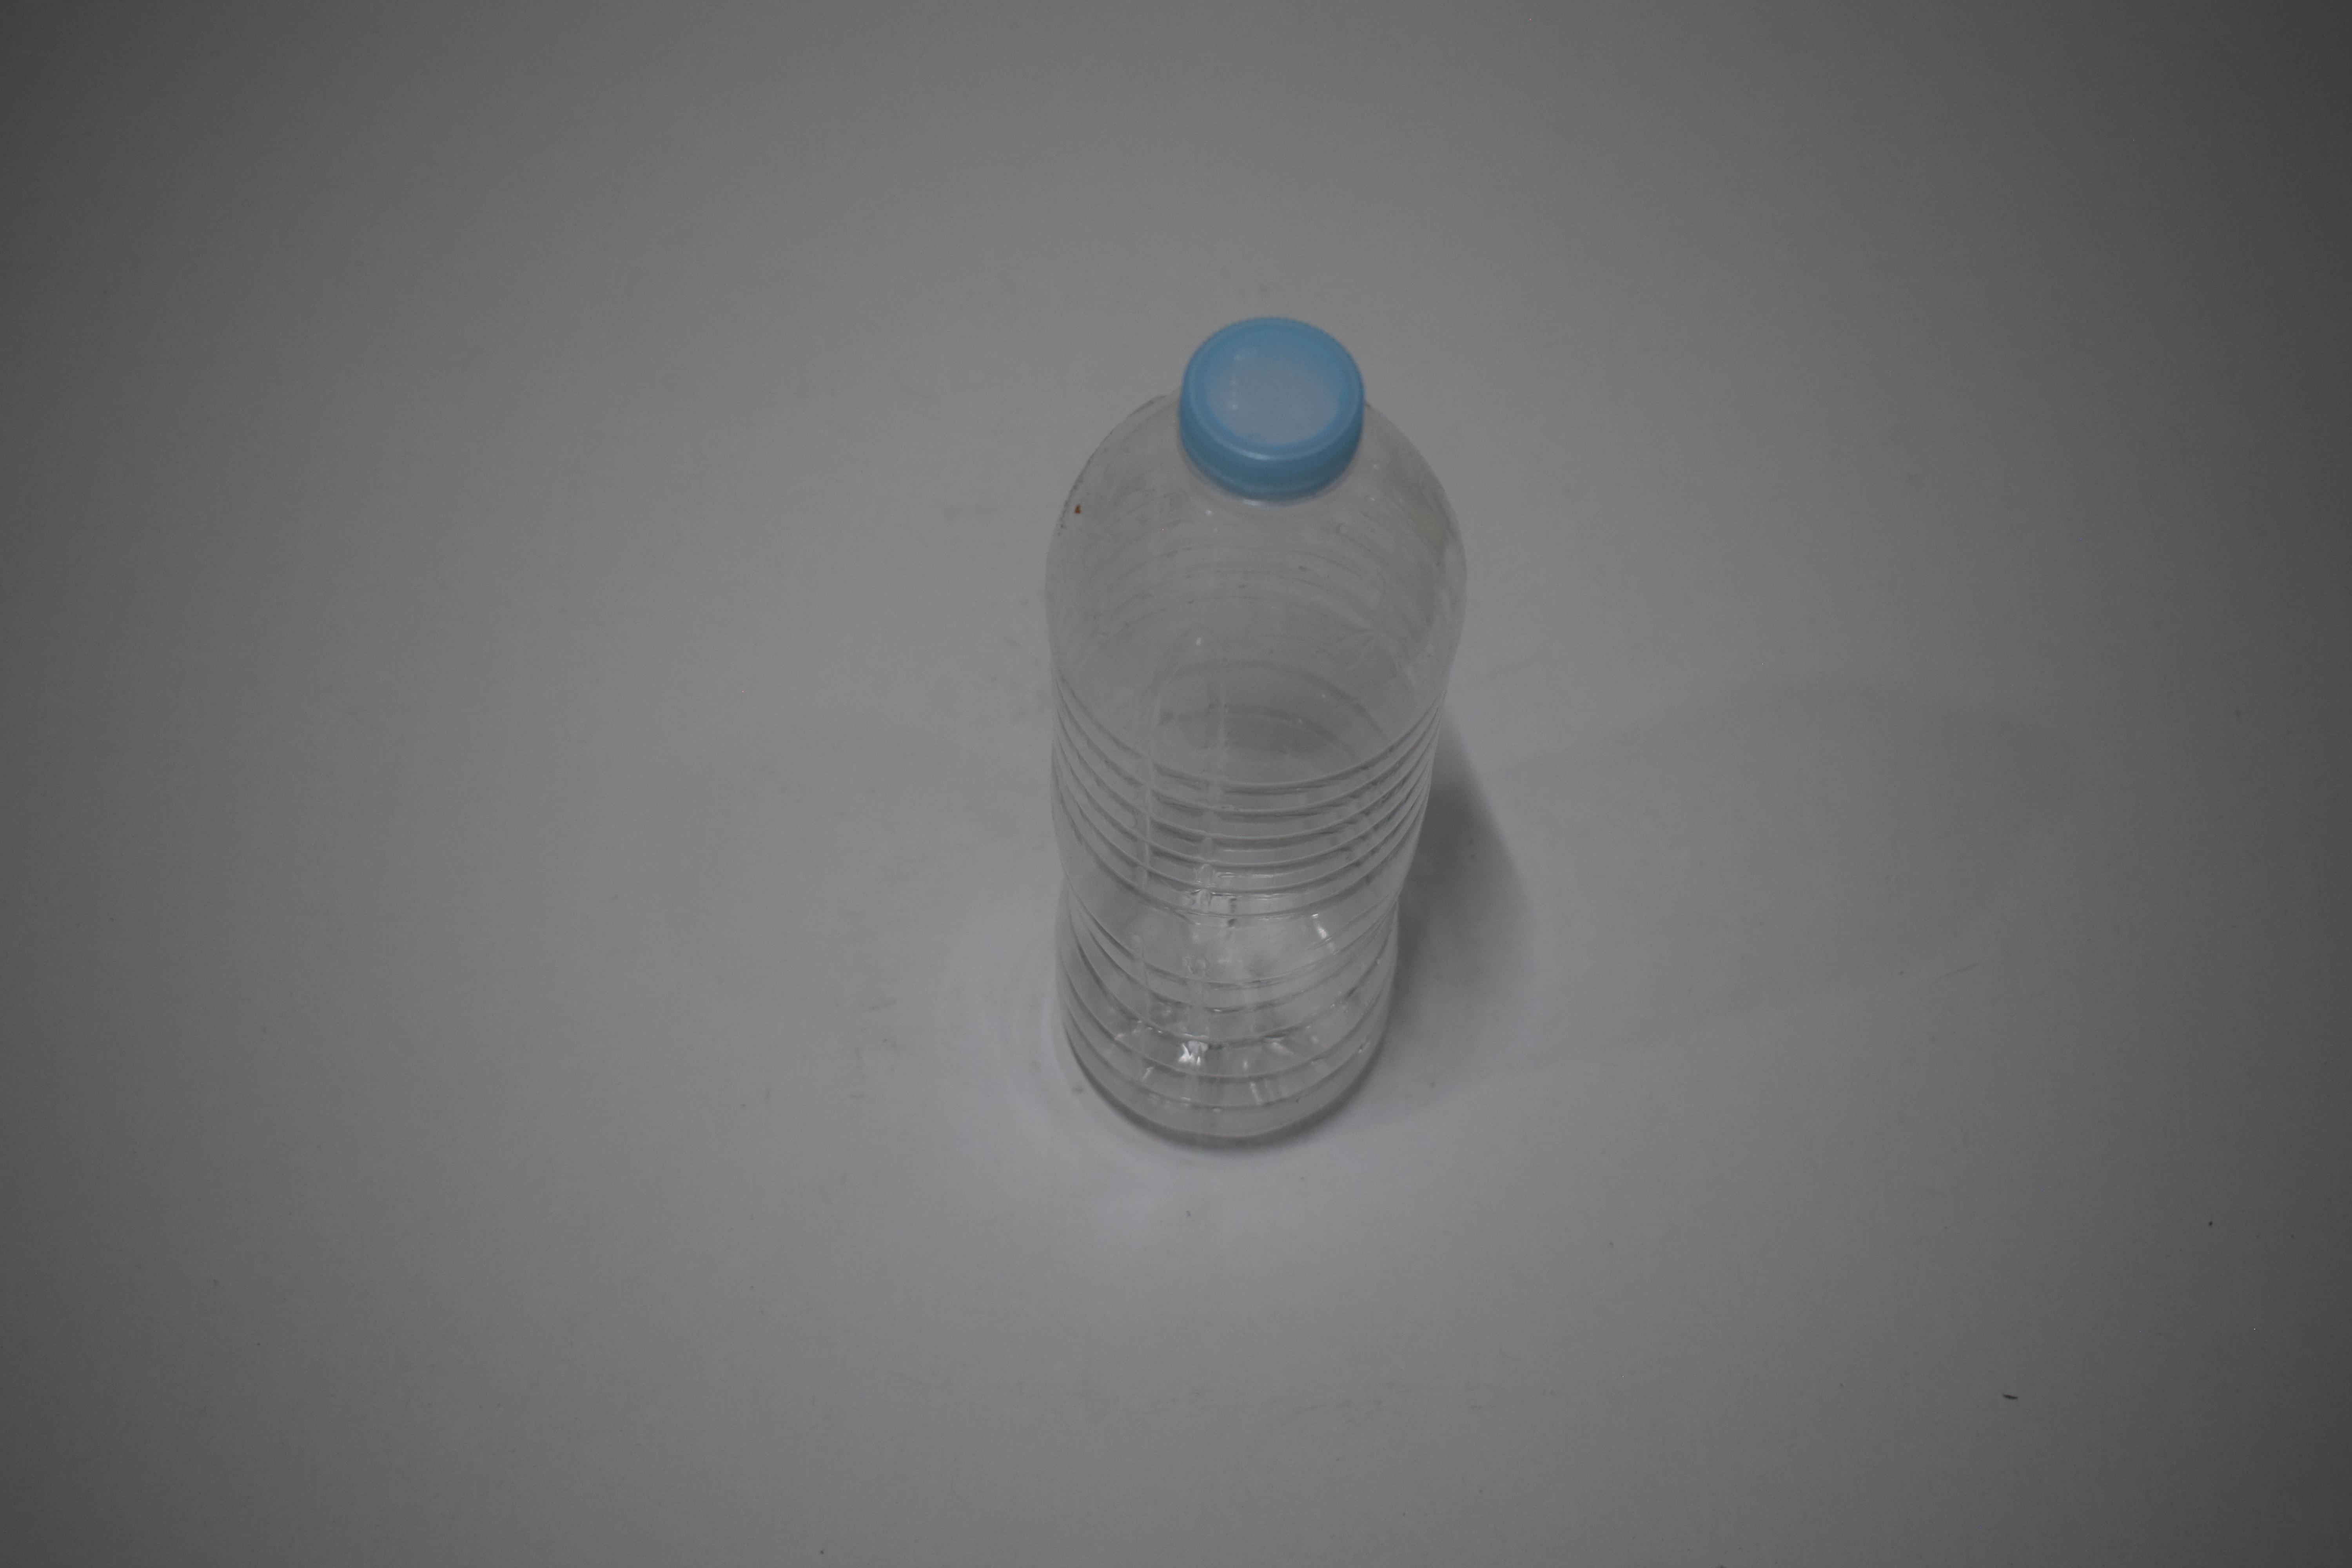bottle: (0, 702, 290, 759)
